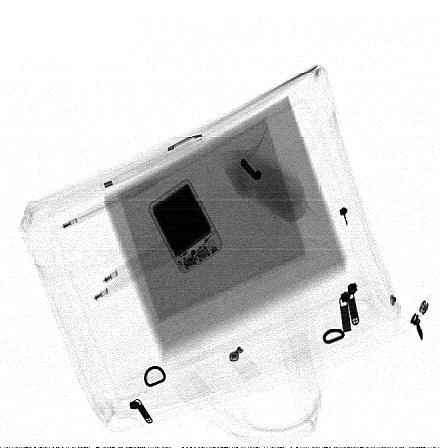Powerbank: (147, 178, 223, 273)
